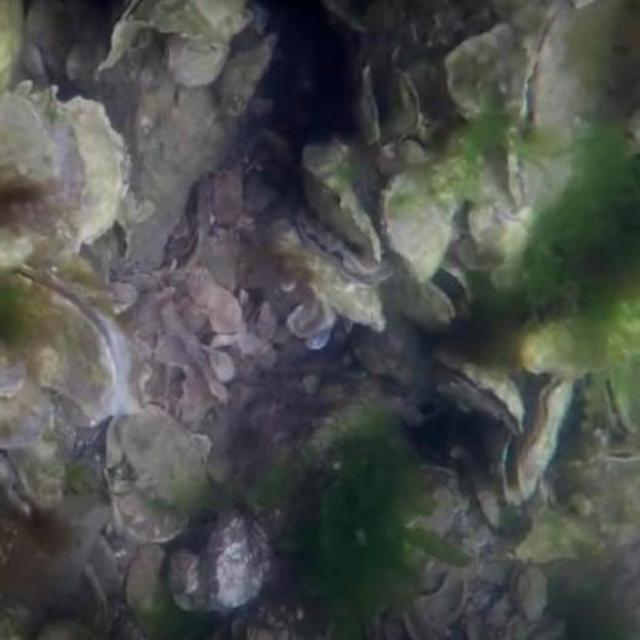Oyster-Closed: (0, 260, 130, 417), (521, 0, 638, 157), (296, 137, 383, 267), (62, 97, 133, 245), (440, 15, 524, 125), (122, 404, 210, 507), (386, 167, 453, 279), (216, 517, 267, 606)
Oyster-Open: (517, 375, 575, 511), (283, 215, 376, 289), (429, 361, 523, 434), (391, 264, 469, 344), (589, 362, 638, 449)
